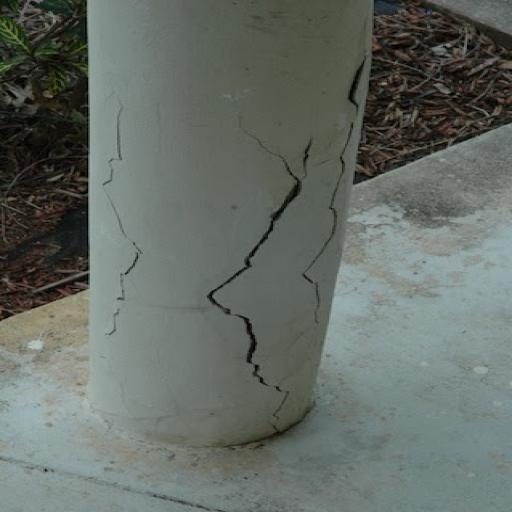spalling: (302, 55, 369, 326), (207, 122, 302, 303), (212, 303, 289, 429), (109, 197, 144, 301), (300, 139, 311, 178), (116, 112, 122, 161), (109, 309, 120, 335), (103, 160, 112, 185)
